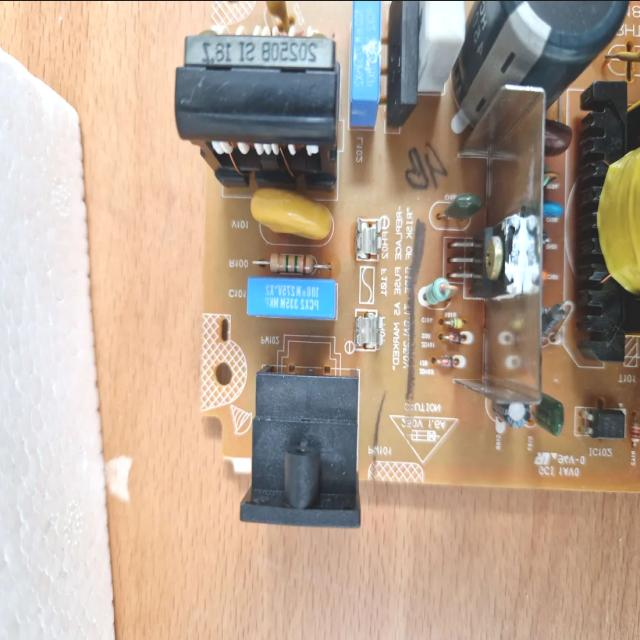C: (451, 0, 629, 118)
D: (252, 251, 332, 273), (442, 193, 480, 223), (264, 0, 289, 31), (629, 411, 640, 446), (438, 316, 466, 326), (432, 356, 460, 366), (441, 330, 464, 342)
E: (250, 187, 332, 239)
